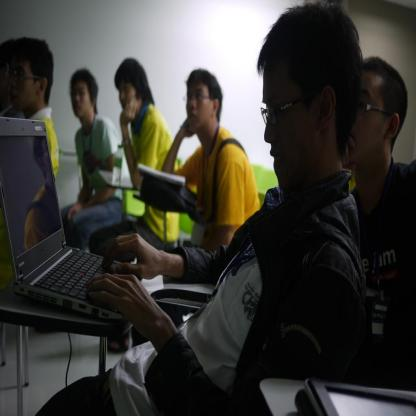board: (7, 98, 144, 339), (112, 142, 124, 184)
